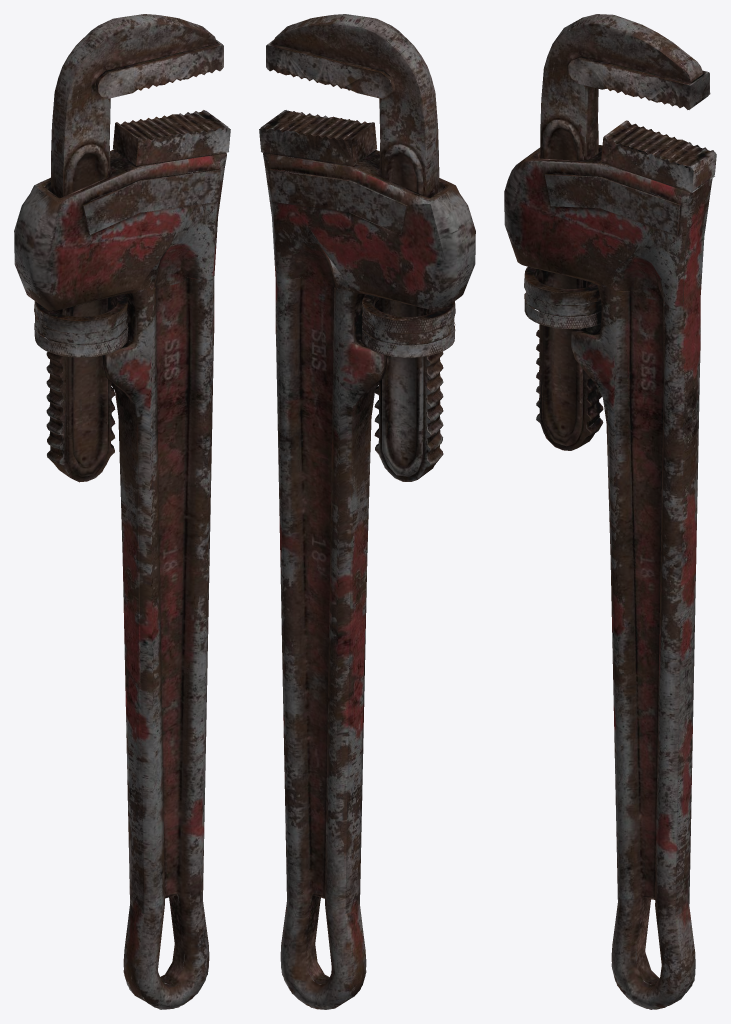
The model's file is ph_pipe_wrench.gltf.
3 views of the same model, side by side, from view 1: azimuth 30°, elevation 25°; view 2: azimuth 150°, elevation 25°; view 3: azimuth 330°, elevation 25° (orthographic).
Parts seen in each view (by area): view 1: Body; view 2: Body; view 3: Body.
Boxes of the visible parts, <box> form: Body: <box>14,14,230,1009</box>; Body: <box>259,14,475,1009</box>; Body: <box>504,14,716,1009</box>.
Size of the model in its own units: 0.0841 by 0.4053 by 0.0347.
1 material, 1 textured.
